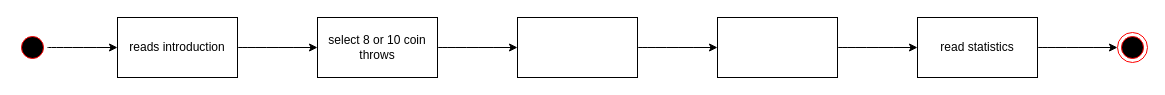
Some shapes in this 1165 by 95 pixel diagram are drawn without their labels. The shapes that lost their labels are listed below. From the top down, each one's centre as x and y in pixels, then its label:
At point (577, 47): "select heads or tails (n-times)".
At point (777, 47): "send answer form".
